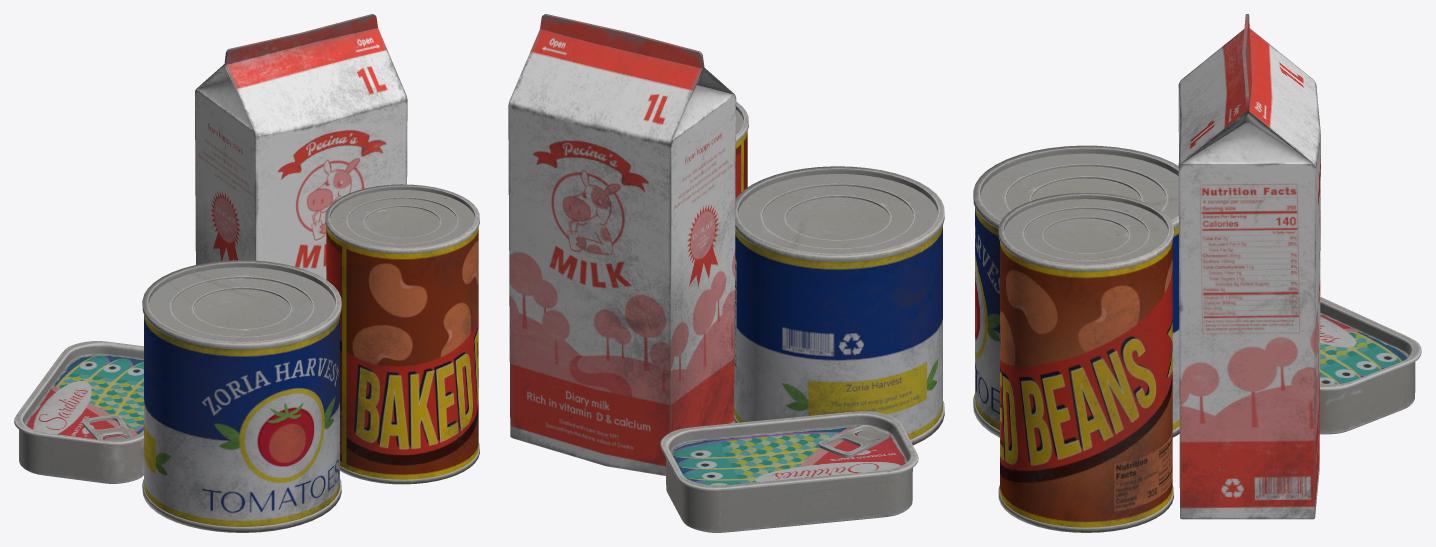
File: long_life_food.glb
3 renders of one model, left to right at view 1: azimuth 30°, elevation 25°; view 2: azimuth 150°, elevation 25°; view 3: azimuth 270°, elevation 25°, orthographic. The views are drawn at different scales.
Visible parts, largest first — view 1: tomatoes, beans, milk, sardines; view 2: milk, tomatoes, sardines, beans; view 3: milk, beans, tomatoes, sardines.
Part boxes in pixels (box(x1,y1,x2,y2)): tomatoes: box(142, 260, 341, 532); beans: box(325, 184, 479, 484); milk: box(195, 14, 407, 279); sardines: box(14, 341, 143, 483); milk: box(508, 14, 736, 475); tomatoes: box(734, 166, 944, 445); sardines: box(660, 411, 918, 532); beans: box(735, 102, 748, 198); milk: box(1178, 14, 1320, 519); beans: box(998, 193, 1173, 532); tomatoes: box(973, 145, 1179, 437); sardines: box(1319, 297, 1421, 434).
Size of the model in its own units: 0.2463 by 0.2376 by 0.2254.
1 material, 1 textured.
